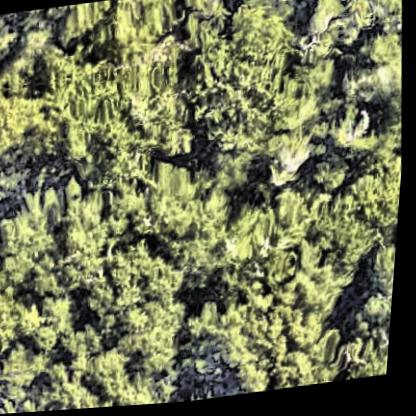tree-top: (24, 37, 196, 201), (185, 247, 362, 405), (197, 0, 312, 150), (0, 188, 115, 296), (87, 232, 196, 327), (230, 178, 324, 270), (137, 157, 226, 244), (118, 288, 190, 378), (343, 156, 406, 246), (348, 29, 408, 115), (0, 7, 60, 93), (0, 78, 55, 171), (301, 0, 385, 58), (356, 241, 401, 340), (104, 0, 175, 57), (0, 263, 36, 363), (87, 347, 142, 404), (326, 108, 383, 163), (347, 323, 396, 386), (3, 343, 52, 405), (312, 153, 360, 201), (66, 323, 114, 366), (368, 247, 400, 307), (169, 0, 235, 18), (48, 360, 78, 392)
